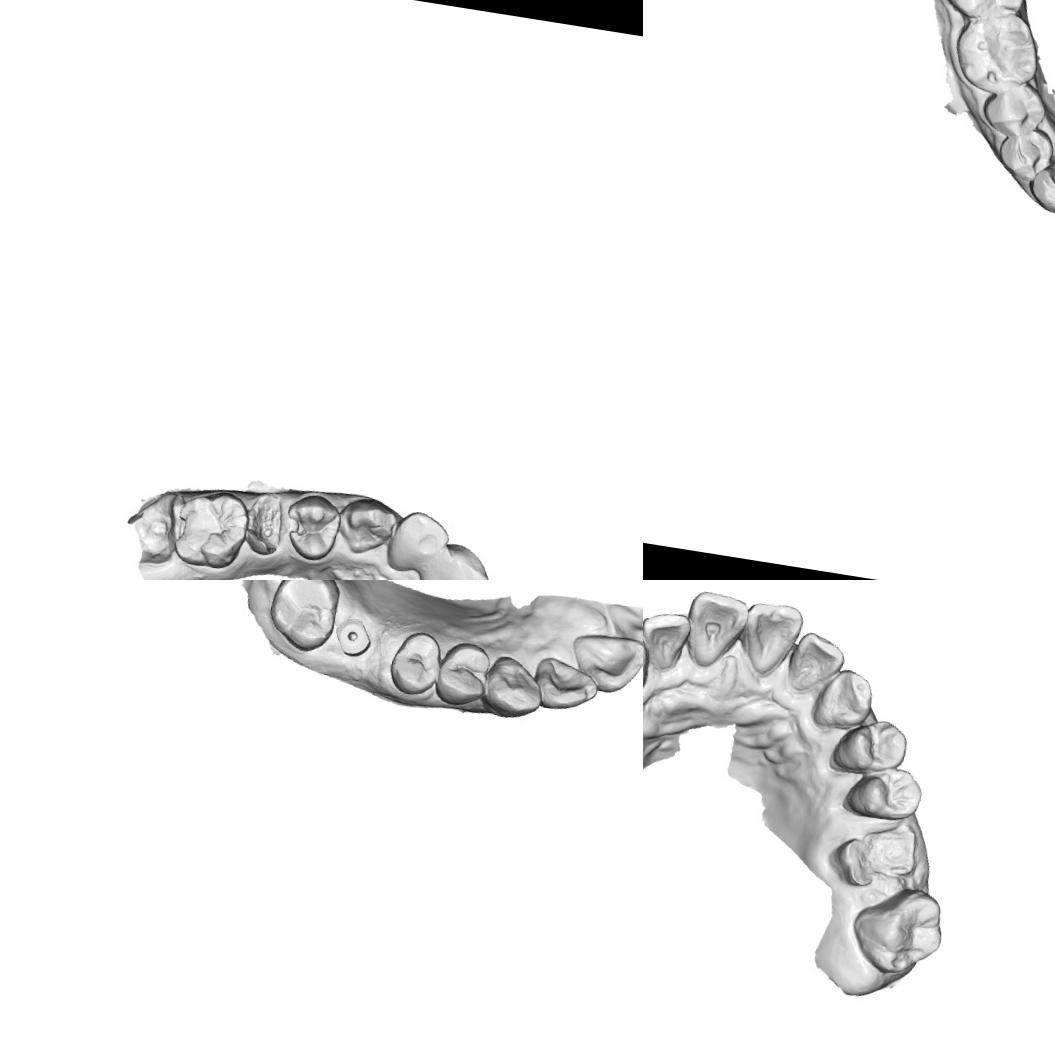canine: (381, 504, 455, 580), (810, 666, 878, 736), (481, 652, 544, 724), (1027, 149, 1055, 218)
implant: (334, 616, 374, 663)
incisor: (681, 588, 750, 674), (736, 598, 804, 682), (565, 627, 643, 697), (784, 628, 848, 700), (530, 652, 601, 716), (643, 608, 693, 676), (416, 536, 493, 580)
molar: (844, 878, 951, 984), (950, 8, 1047, 96), (163, 482, 255, 574), (260, 580, 346, 656), (938, 0, 1032, 22)
premolar: (846, 758, 928, 826), (278, 488, 346, 566), (835, 711, 912, 778), (432, 636, 494, 710), (337, 492, 401, 560), (386, 626, 444, 700), (992, 122, 1052, 187), (982, 79, 1046, 139)
